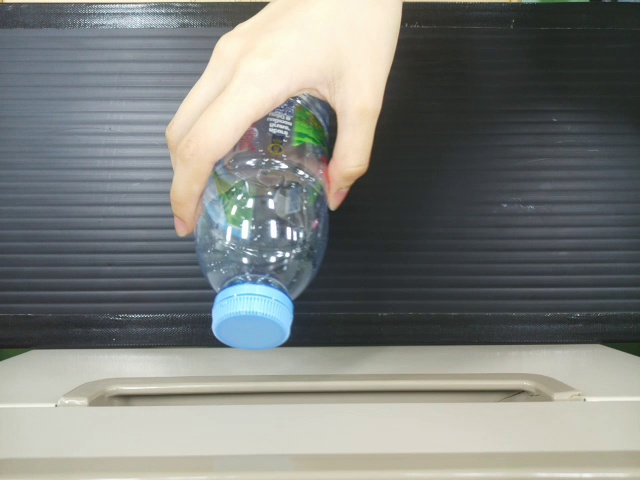bottle: (185, 82, 336, 353)
